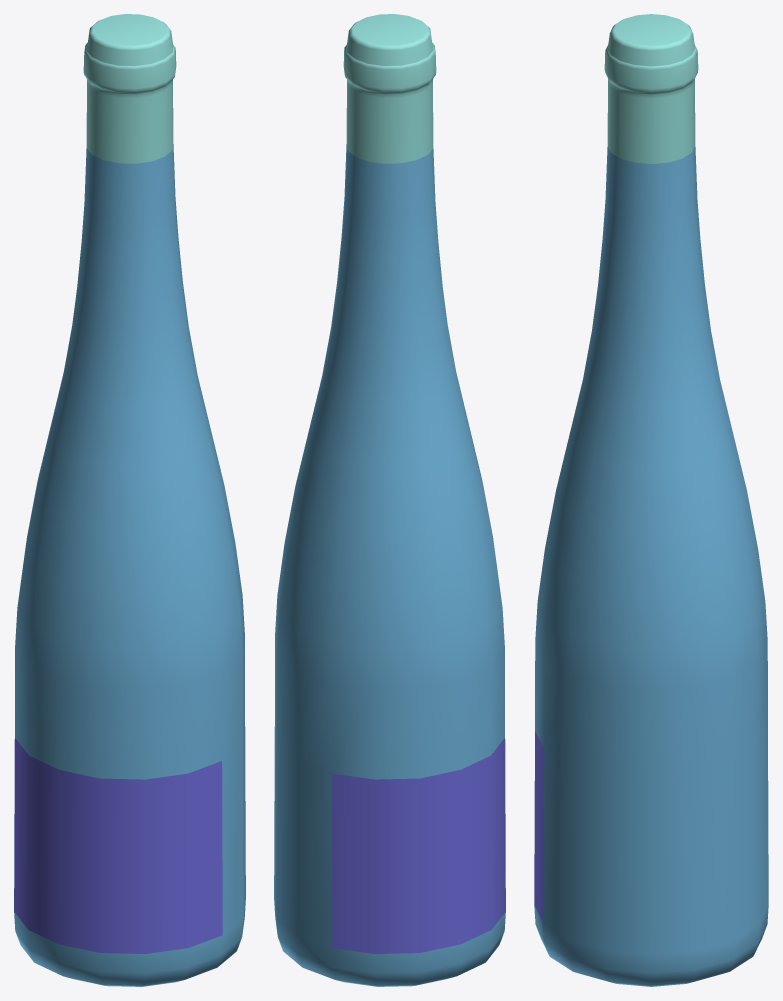
File: weinflasche.fbx
3 views of the same model, side by side, from view 1: azimuth 30°, elevation 25°; view 2: azimuth 150°, elevation 25°; view 3: azimuth 270°, elevation 25° (orthographic).
Visible parts, largest first — view 1: weinflasche; view 2: weinflasche; view 3: weinflasche.
Boxes of the visible parts, x1=… form: weinflasche: x1=14, y1=14, x2=245, y2=986; weinflasche: x1=274, y1=14, x2=505, y2=986; weinflasche: x1=534, y1=14, x2=768, y2=986.
Bounding box in the file's own units: 8.04 × 34.89 × 8.04.
